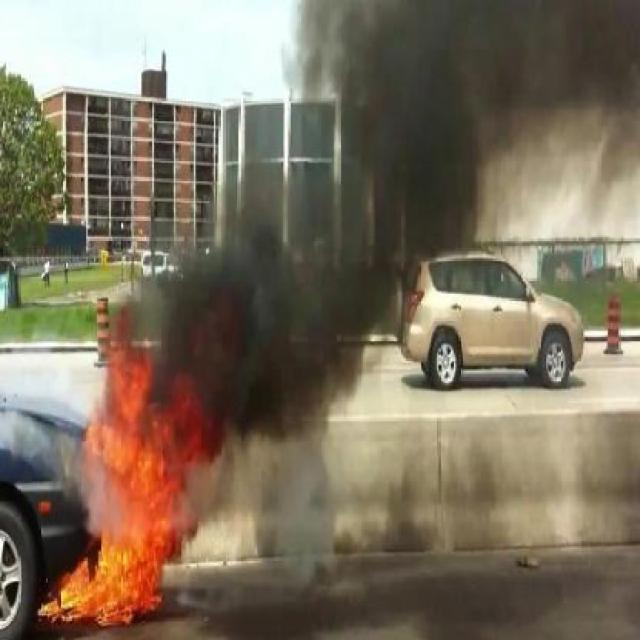Fire: (20, 366, 262, 638)
Smoke: (230, 121, 397, 347)
